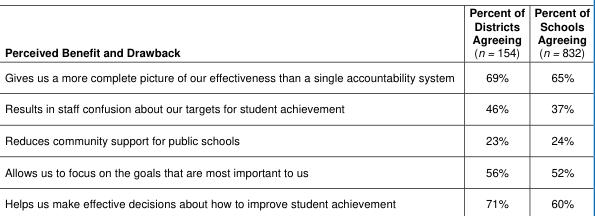table: (3, 4, 589, 210)
table column: (3, 4, 461, 210), (461, 4, 528, 210), (528, 4, 589, 210)
table column header: (3, 4, 589, 63)
table row: (3, 4, 589, 63), (3, 123, 589, 155), (3, 92, 589, 123), (3, 155, 589, 186), (3, 63, 589, 92), (3, 186, 589, 210)
